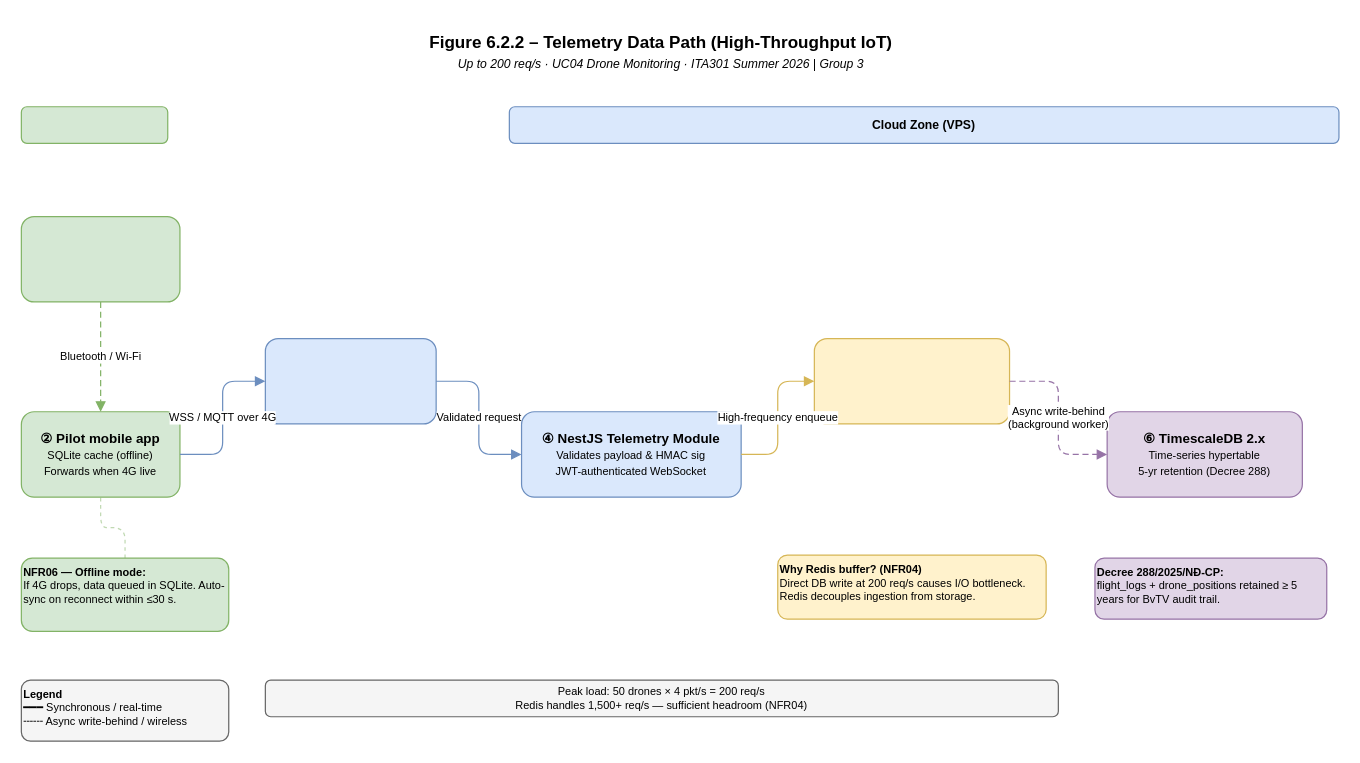
Image size: 1360x763. Some labels were removed from this diagram. Here are the shapes that lost their labels. From the top down, the box of each, then its label:
(20, 106, 168, 143): Edge Zone
(20, 215, 180, 302): ① Drone hardware GPS + sensor data ~4 pkt/s per drone
(264, 337, 436, 424): ③ Nginx TLS 1.3 termination Rate-limit per device ID
(813, 337, 1010, 424): ⑤ Redis Stack In-memory write buffer Absorbs 200 req/s burst (NFR04)
